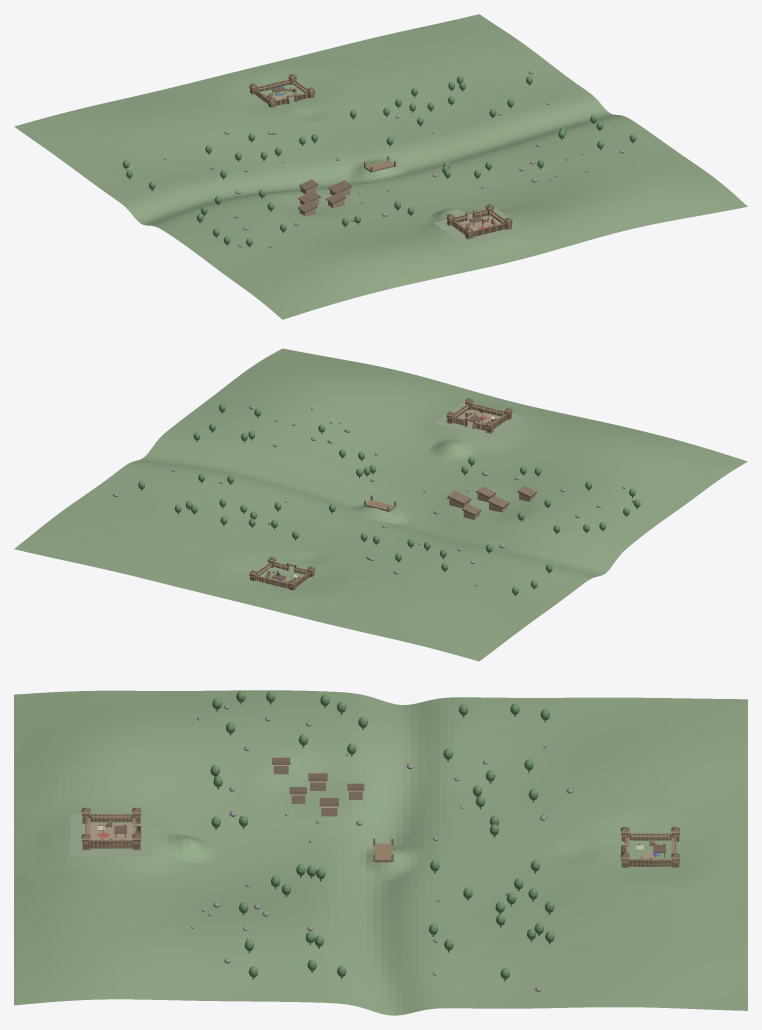
File: sunmeadow_valley_1v1_v5_with_colliders.glb
3 views of the same model, one above another, from view 1: azimuth 30°, elevation 25°; view 2: azimuth 150°, elevation 25°; view 3: azimuth 270°, elevation 25° (orthographic). The views are drawn at different scales.
Parts seen in each view (by area): view 1: VIS_Terrain, VIS_Fort_B_Apron; view 2: VIS_Terrain, VIS_Fort_B_Apron; view 3: VIS_Terrain, VIS_Fort_B_Apron, VIS_Fort_B_Courtyard.
Part boxes in pixels (x1,y1,x2,y2): VIS_Terrain: [14, 14, 747, 319]; VIS_Fort_B_Apron: [433, 207, 525, 244]; VIS_Terrain: [14, 348, 747, 661]; VIS_Fort_B_Apron: [433, 401, 525, 438]; VIS_Terrain: [14, 690, 747, 1015]; VIS_Fort_B_Apron: [70, 814, 152, 856]; VIS_Fort_B_Courtyard: [90, 823, 133, 846].
Size of what is drawn, in the model's own units: 643 by 42.91 by 640.
